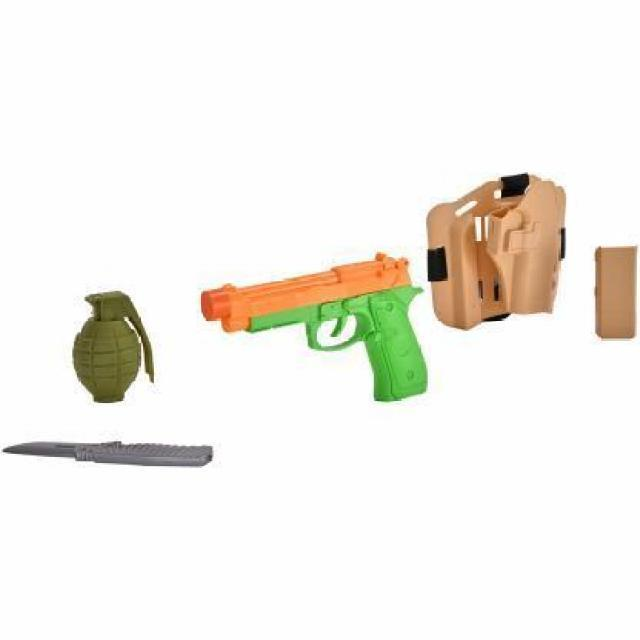Grenade: (72, 290, 157, 404)
Knife: (2, 438, 215, 469)
Pistol: (198, 253, 431, 404)
